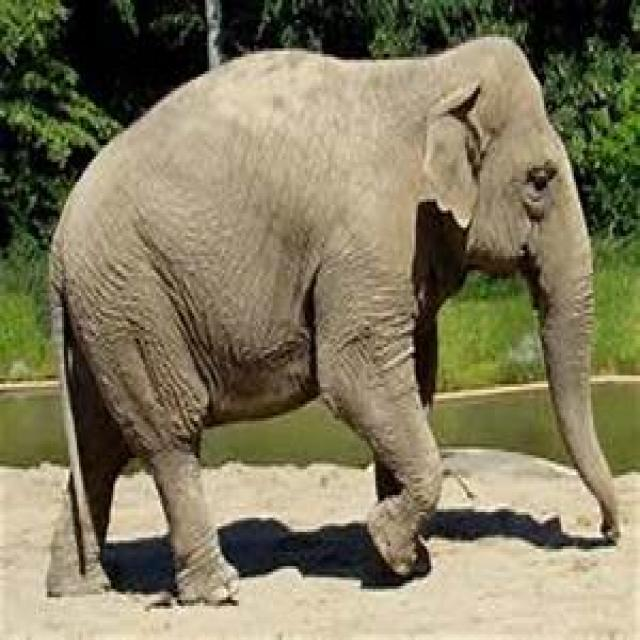elephant: (47, 37, 621, 609)
